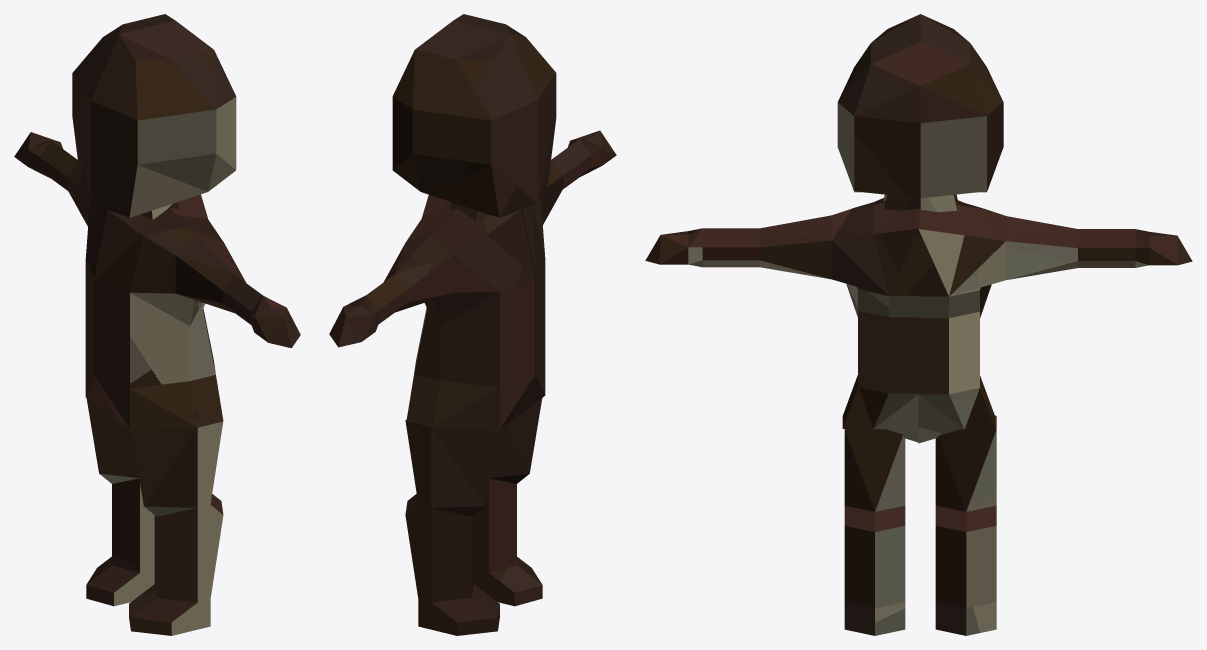
File: w9_cand_basicchar_yogoshimo.glb
3 views of the same model, side by side, from view 1: azimuth 30°, elevation 25°; view 2: azimuth 150°, elevation 25°; view 3: azimuth 270°, elevation 25° (orthographic).
Parts seen in each view (by area): view 1: group847455024, group510330597, group1842606042, group1236196868, group1782017518, group747962390; view 2: group1782017518, group747962390, group1236196868, group1842606042, group847455024, group510330597; view 3: group1782017518, group847455024, group1842606042, group1236196868, group747962390, group510330597.
Boxes of the visible parts, bbox=[...] form: group847455024: bbox=[94, 194, 300, 429]; group510330597: bbox=[91, 20, 236, 217]; group1842606042: bbox=[129, 421, 223, 635]; group1236196868: bbox=[86, 398, 154, 606]; group1782017518: bbox=[14, 132, 119, 422]; group747962390: bbox=[72, 14, 174, 202]; group1782017518: bbox=[329, 195, 534, 428]; group747962390: bbox=[392, 20, 537, 217]; group1236196868: bbox=[405, 420, 499, 635]; group1842606042: bbox=[474, 398, 542, 606]; group847455024: bbox=[509, 130, 616, 422]; group510330597: bbox=[453, 14, 556, 202]; group1782017518: bbox=[918, 200, 1192, 443]; group847455024: bbox=[645, 198, 919, 442]; group1842606042: bbox=[844, 429, 905, 635]; group1236196868: bbox=[935, 415, 996, 635]; group747962390: bbox=[920, 14, 1003, 198]; group510330597: bbox=[837, 14, 920, 198].
Bounding box in the file's own units: 0.0982 × 0.4273 × 0.3601.
Materials: 1 (1 with a texture image).
